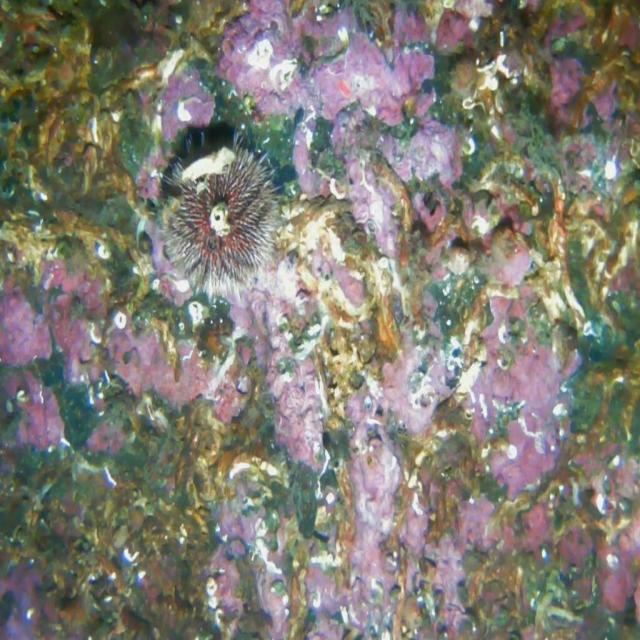Deniz Kestanesi: (160, 128, 285, 299)
